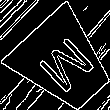M_SE: (29, 29, 98, 97)
